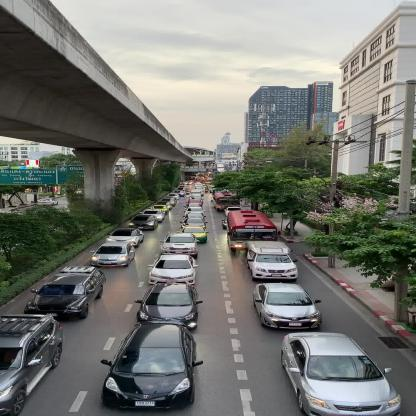bus: (228, 210, 276, 256)
car: (281, 332, 402, 415), (98, 323, 202, 411), (26, 266, 107, 321), (253, 283, 319, 330), (138, 283, 202, 330), (245, 242, 298, 282), (147, 254, 199, 285), (89, 240, 135, 268), (161, 232, 200, 254), (107, 228, 143, 246), (177, 226, 210, 243), (129, 214, 157, 230)
